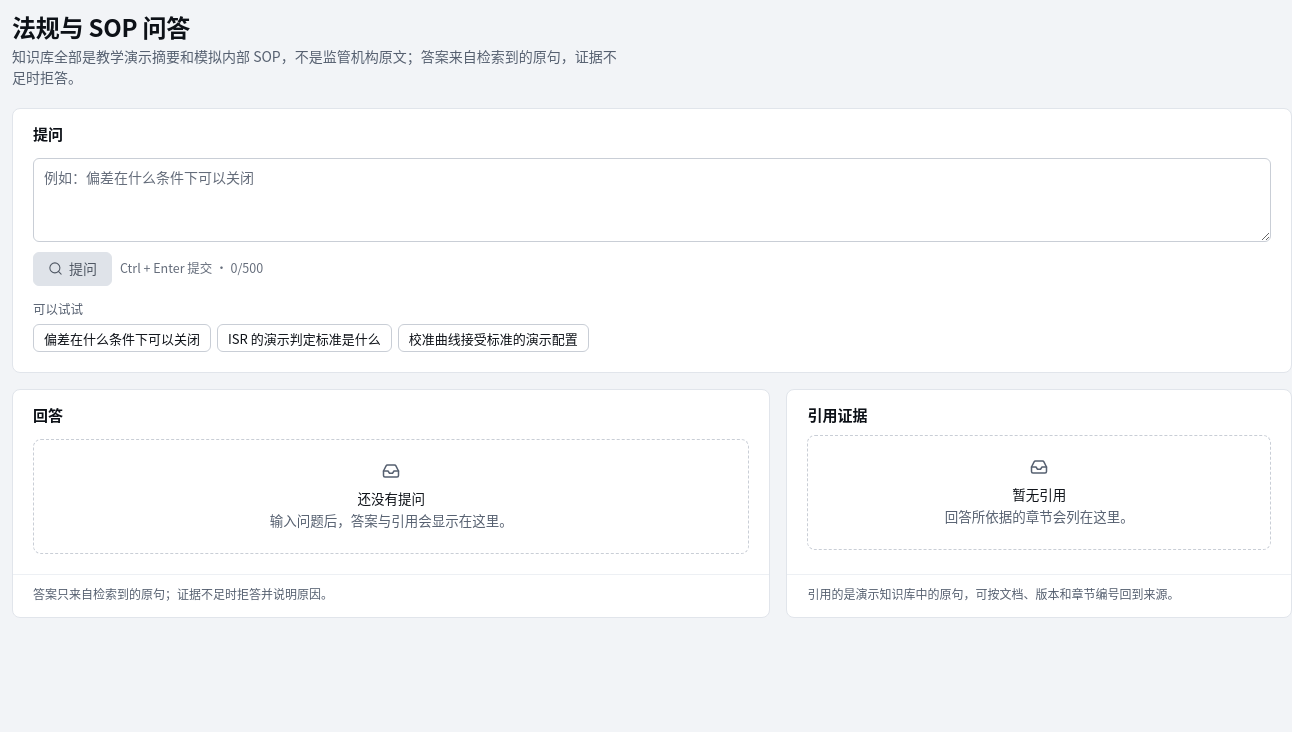
法规问答 › 作答：答案、引用（文档/版本/章节）分区显示
The image size is (1292, 732).
Type "偏差在什么条件下可以关闭" into the text box named "问题" at (652, 200), box [33, 158, 1271, 242]
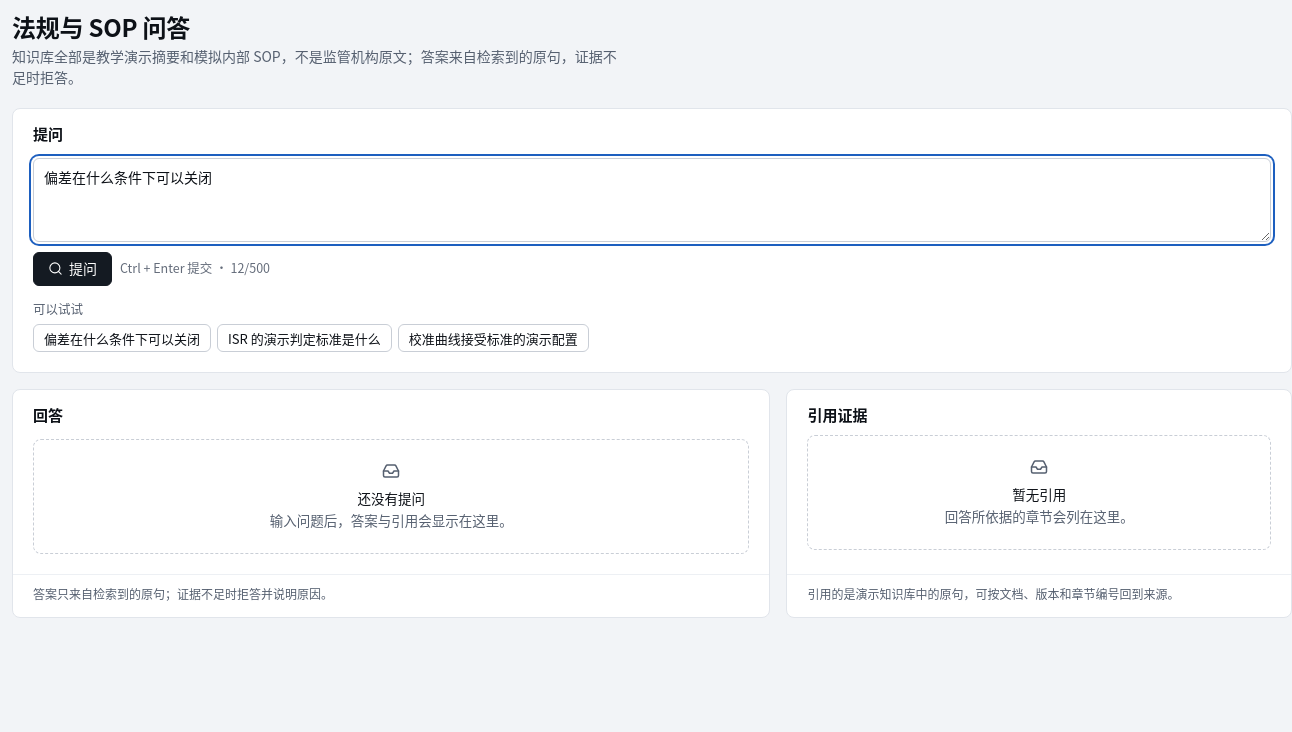
Click the button "提问" at (72, 268), box [33, 252, 112, 286]
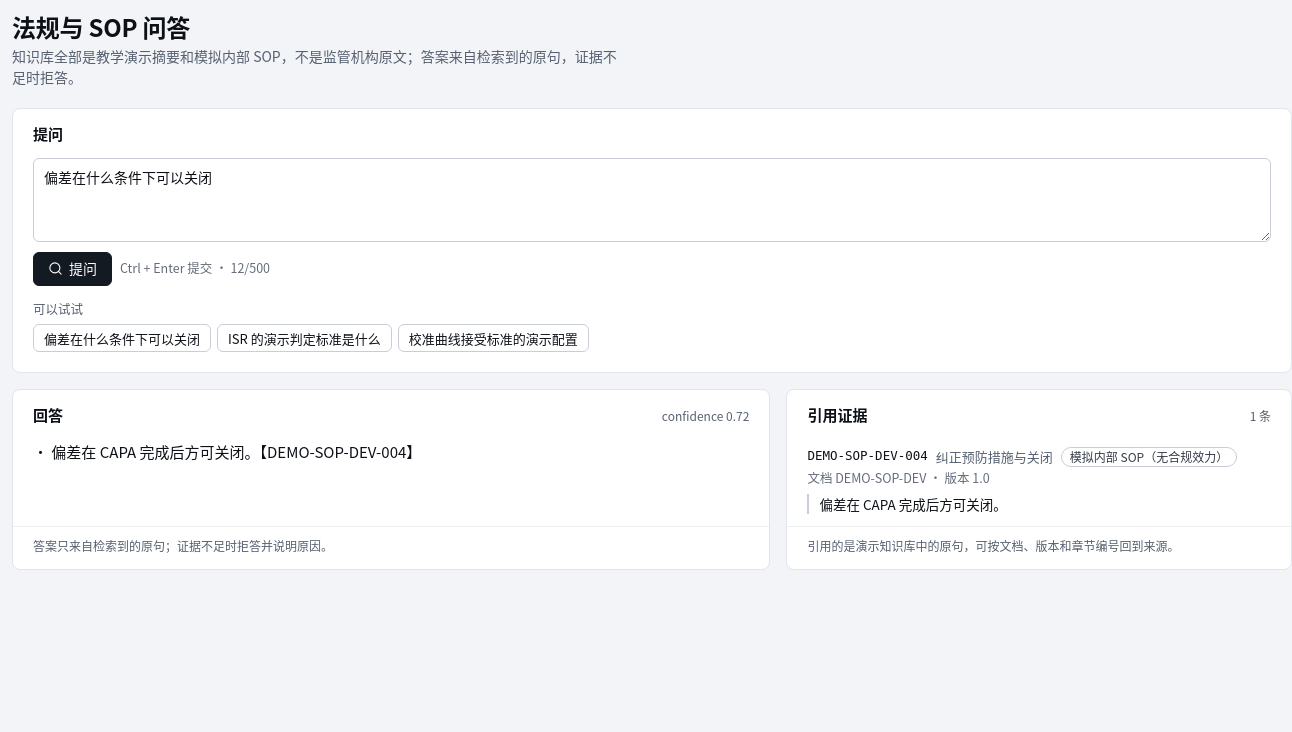
Result: the text "• 偏差在 CAPA 完成后方可关闭。【DEMO-SOP-DEV-004】" is shown at [33, 441, 421, 462]
Result: the text "DEMO-SOP-DEV-004" is shown at [807, 447, 928, 466]
Result: the text "文档 DEMO-SOP-DEV · 版本 1.0" is shown at [807, 468, 990, 487]
